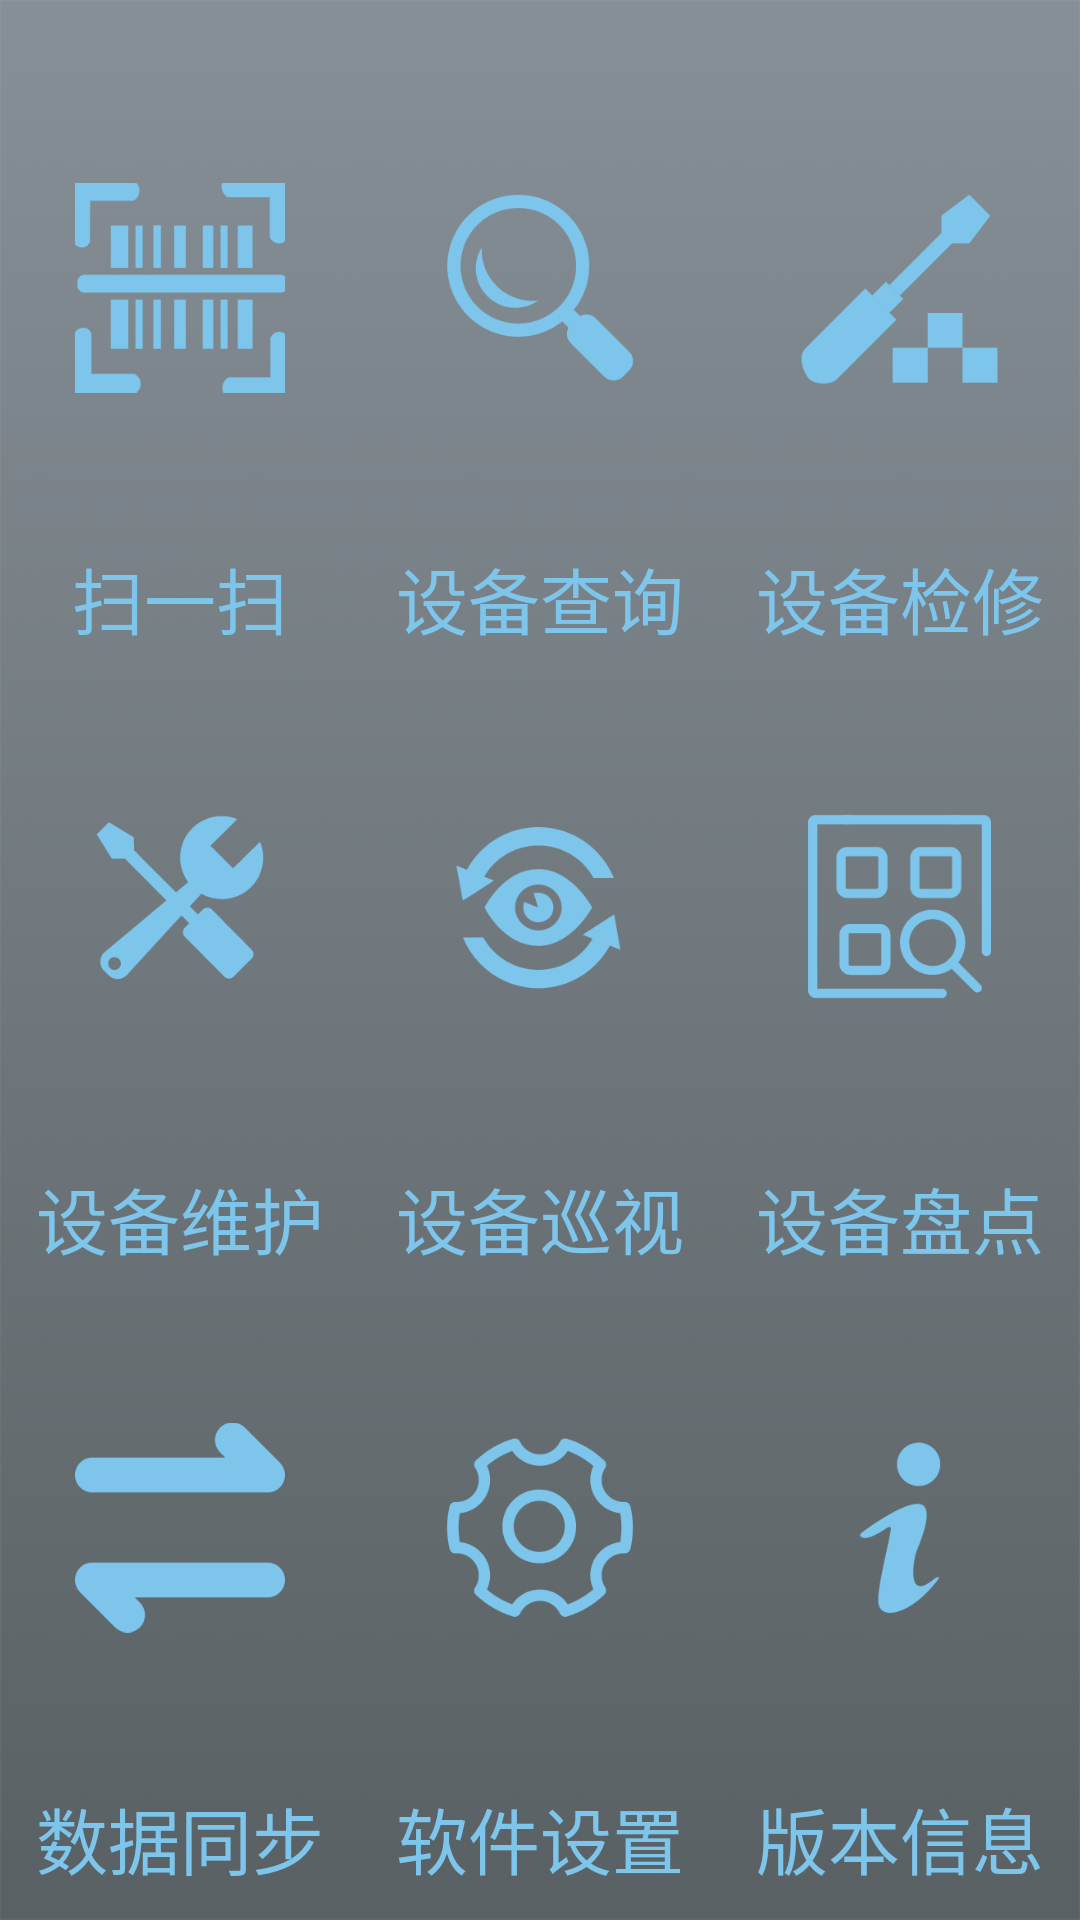

Icon click points for this 1080×1920 phone screenshot, format (x=x, y=y):
scan: (x=180, y=288)
